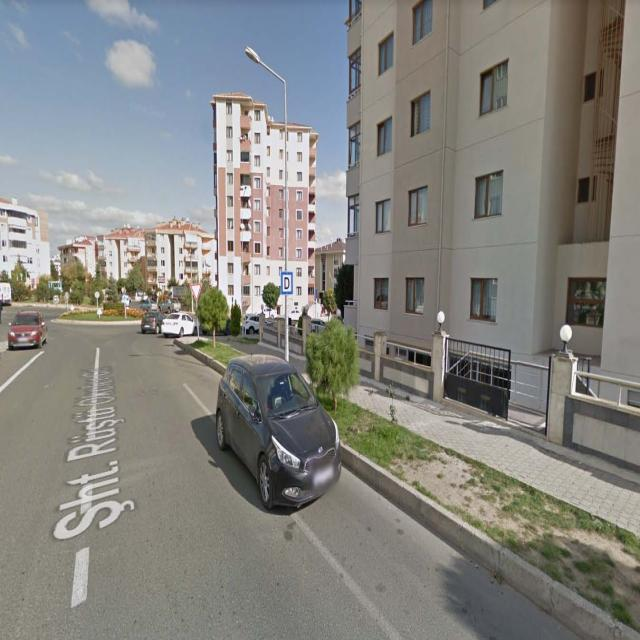durak: (280, 274, 293, 295)
